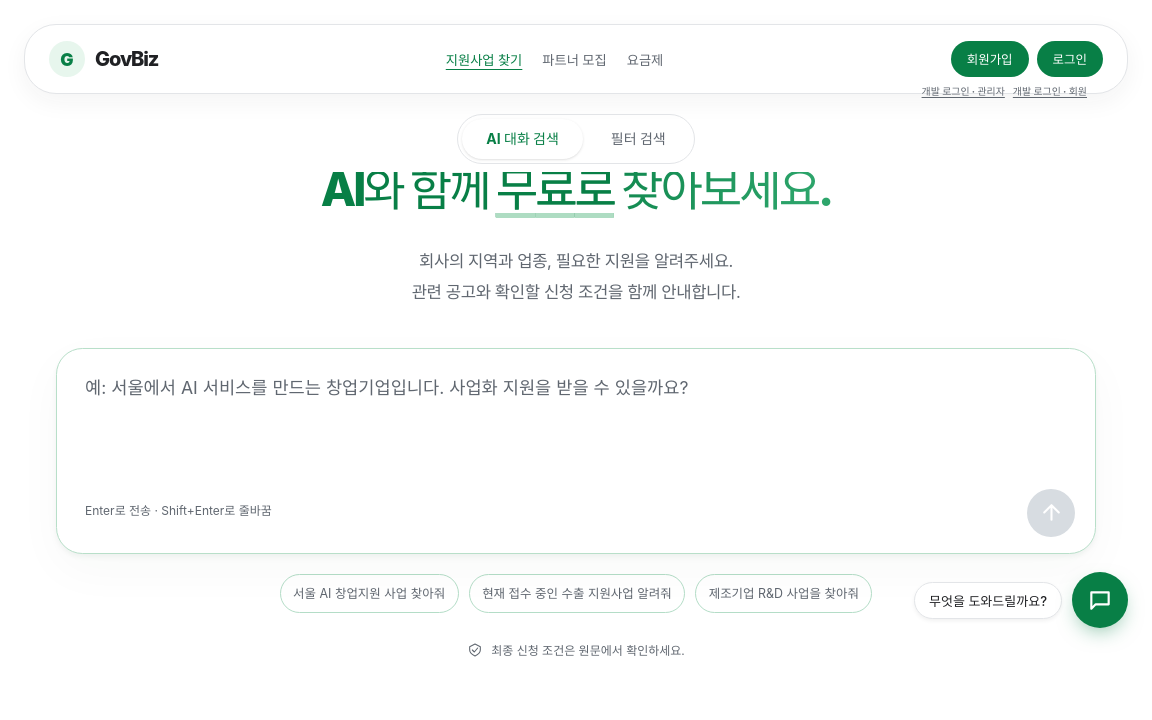
참고 이미지 기반 채팅 디자인 › 예시 질문은 입력만 채우고 자동 요청하거나 새 입력창을 만들지 않는다
(page scrolled)
Step 1. Click the button "서울 AI 창업지원 사업 찾아줘" → (369, 593), box [280,574,459,613]
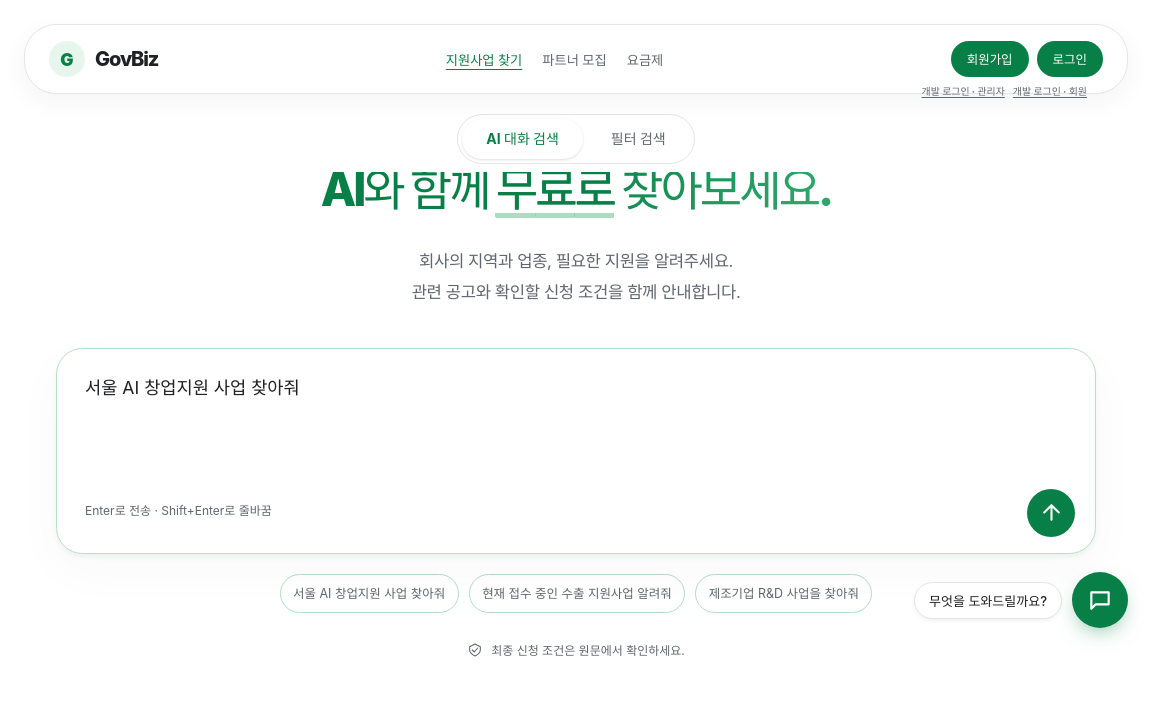
Expected: the heading "우리 회사에 맞는 지원사업, AI와 함께 무료로 찾아보세요." is shown, [321,98,831,217]
Expected: the text box named "지원사업 검색어" holds "서울 AI 창업지원 사업 찾아줘", [57,348,1095,484]
